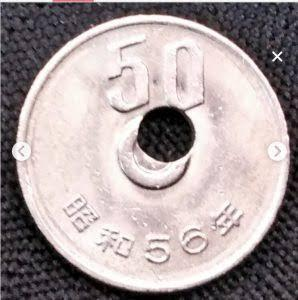year: (63, 189, 247, 265)
